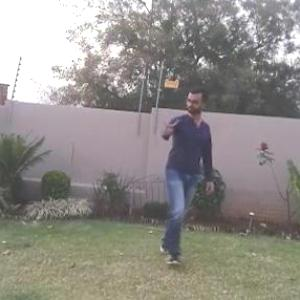takeoff-hand: (157, 110, 182, 136)
